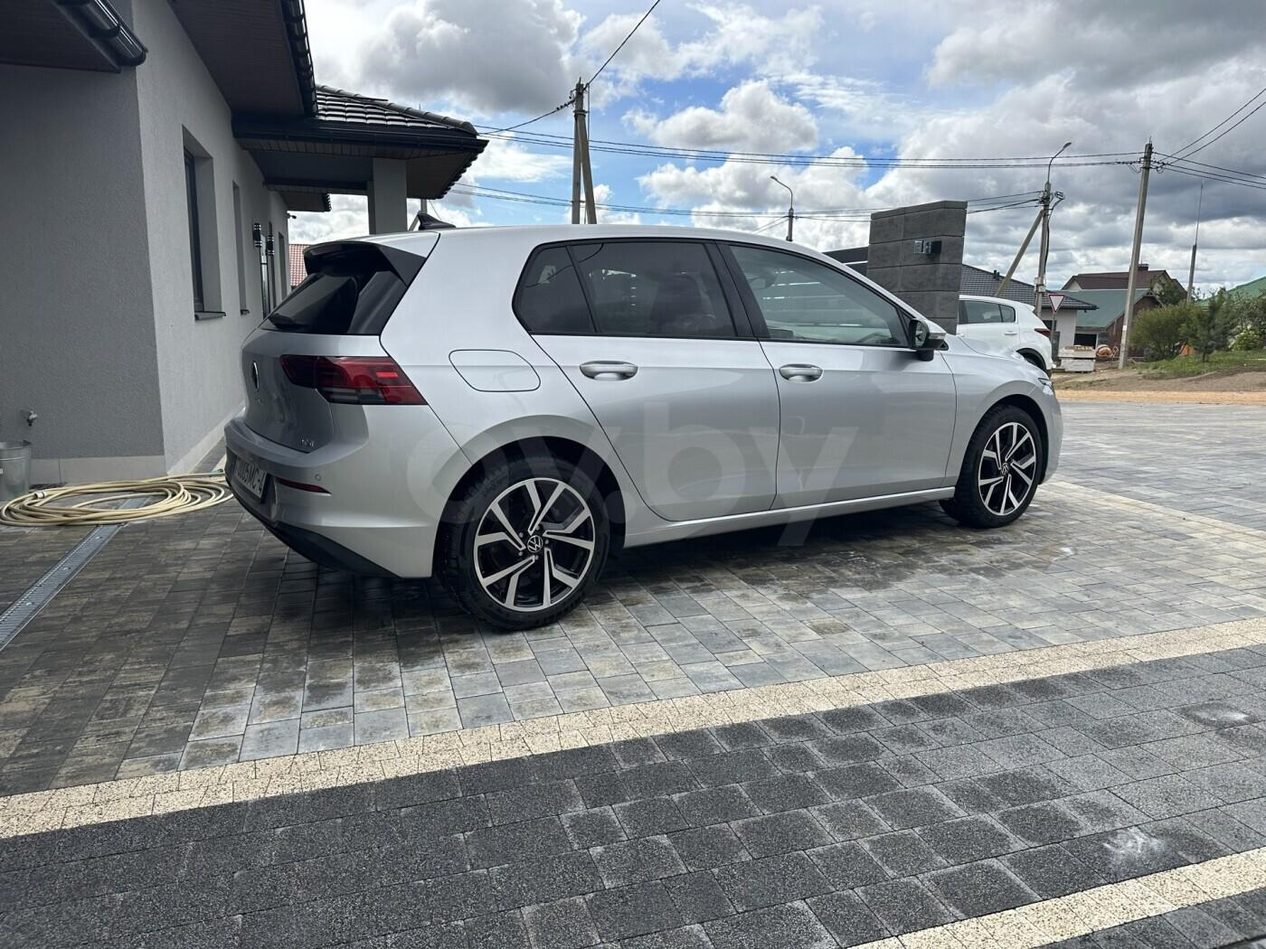Golf_2019: (220, 222, 1071, 618)
